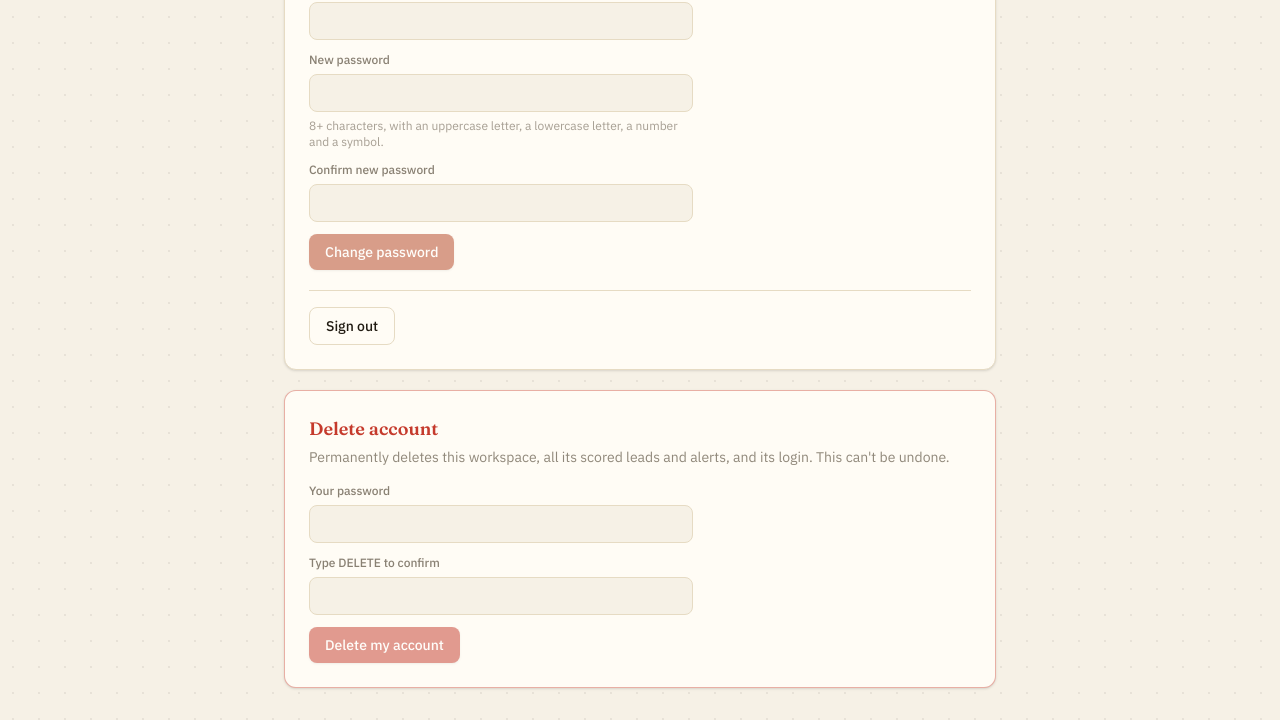
Test case: AccountSettings › shows why deletion failed and keeps the workspace
(page scrolled)
Type "wrong" into the password field labelled "Your password".
click(501, 524); type("wrong")  # box 309,505 -> 693,543
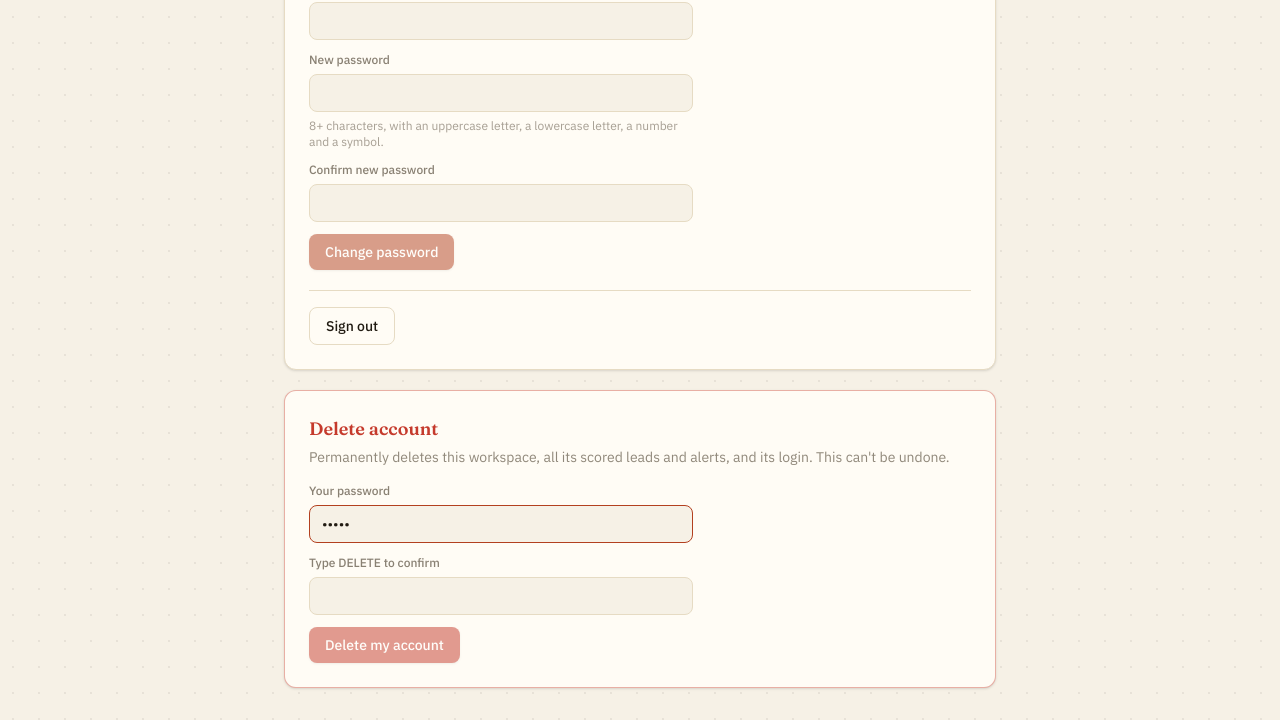
Type "DELETE" into the field labelled "Type DELETE to confirm".
click(501, 596); type("DELETE")  # box 309,577 -> 693,615
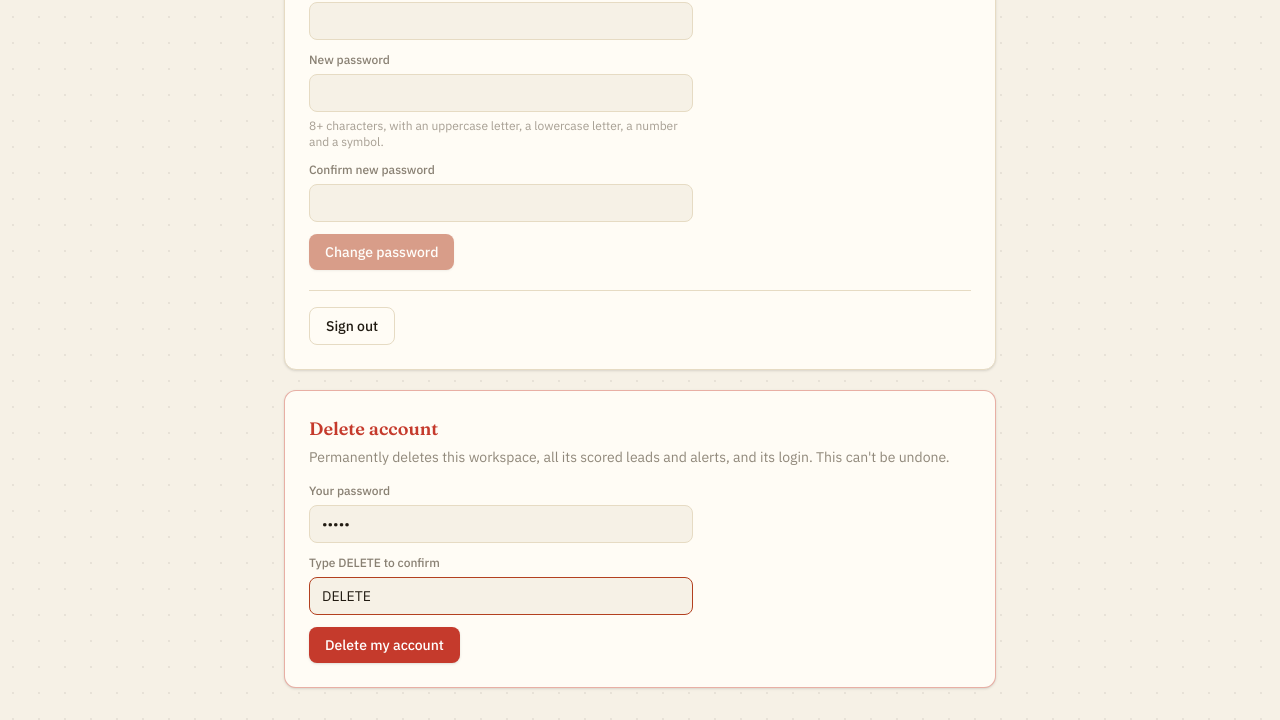
Click the button "Delete my account".
click(384, 645)  # box 309,627 -> 460,663
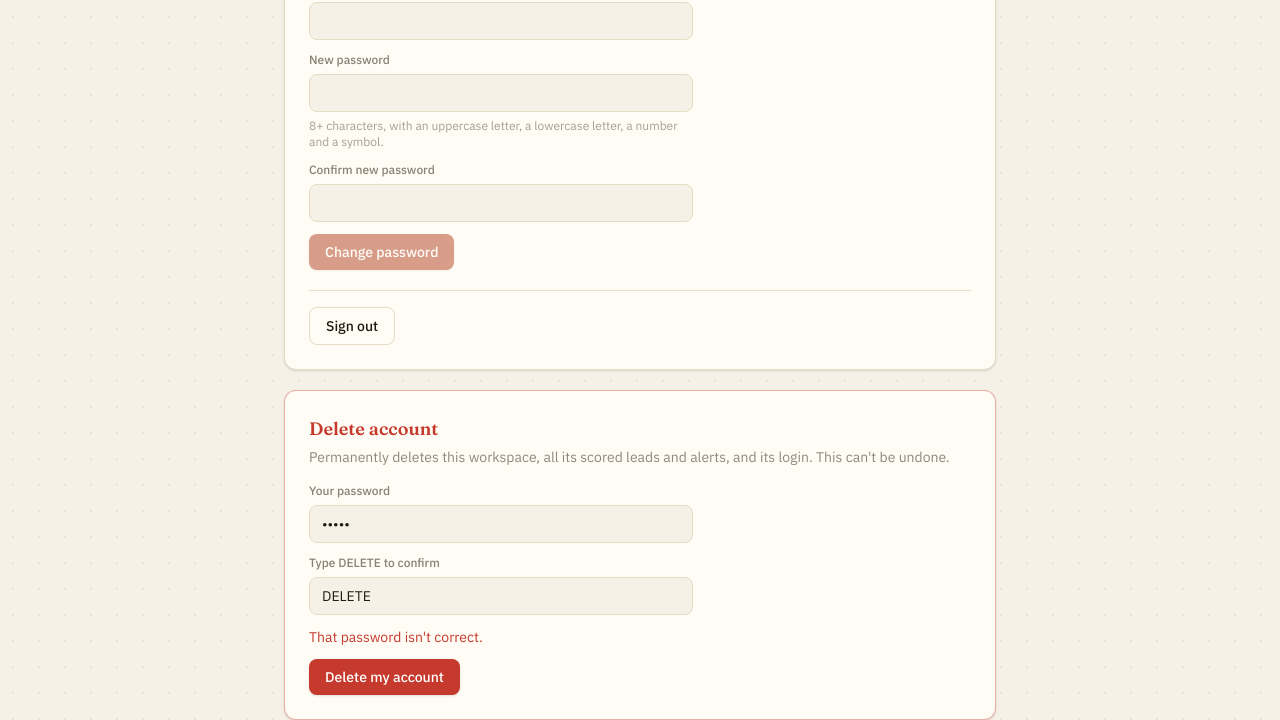
Expected: the message reads "That password isn't correct.", 309,628 -> 483,646
